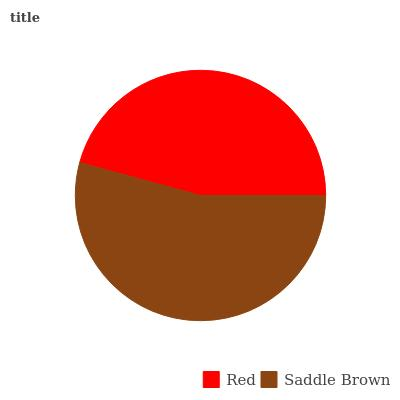legend: (186, 358, 400, 400)
sector: (73, 163, 327, 321), (80, 68, 326, 196)
